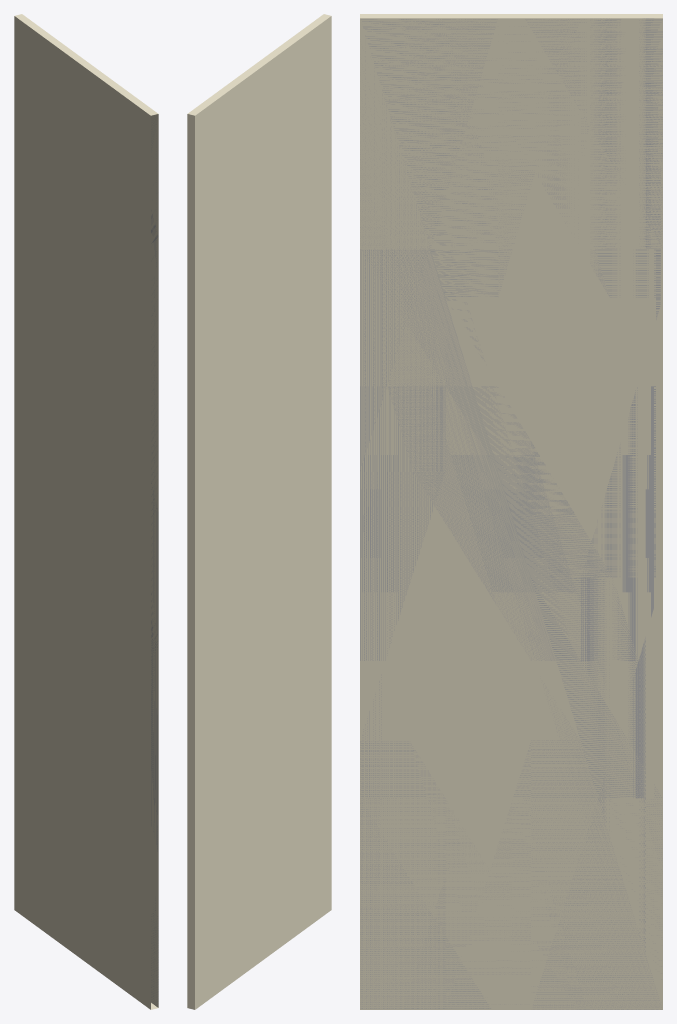
The model's file is original-4.obj.
3 views of the same model, side by side, from view 1: azimuth 30°, elevation 25°; view 2: azimuth 150°, elevation 25°; view 3: azimuth 270°, elevation 25° (orthographic). The views are drawn at different scales.
Parts seen in each view (by area): view 1: mesh2/mesh2-geometry#mesh2-geometry; view 2: mesh2/mesh2-geometry#mesh2-geometry; view 3: mesh2/mesh2-geometry#mesh2-geometry.
Part boxes in pixels (bbox=[...]): mesh2/mesh2-geometry#mesh2-geometry: bbox=[14, 14, 158, 1009]; mesh2/mesh2-geometry#mesh2-geometry: bbox=[187, 14, 331, 1009]; mesh2/mesh2-geometry#mesh2-geometry: bbox=[360, 14, 662, 1009].
Bounding box in the file's own units: 0.0153 × 1.7 × 0.4699.
